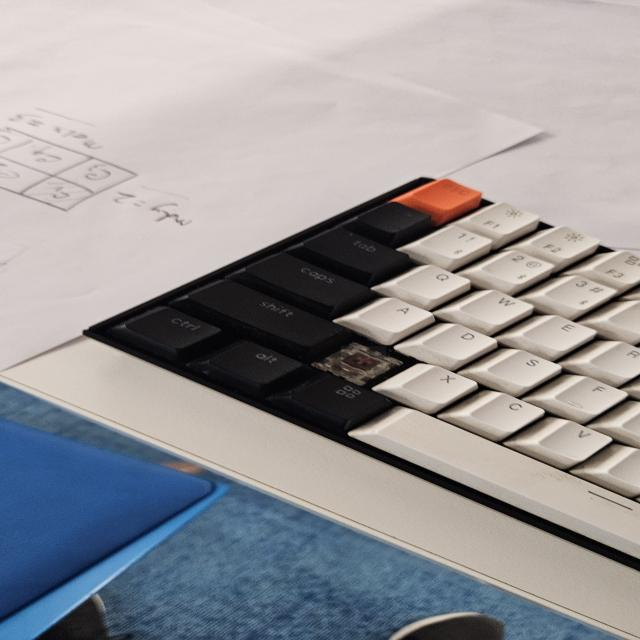C: (341, 346, 386, 374)
